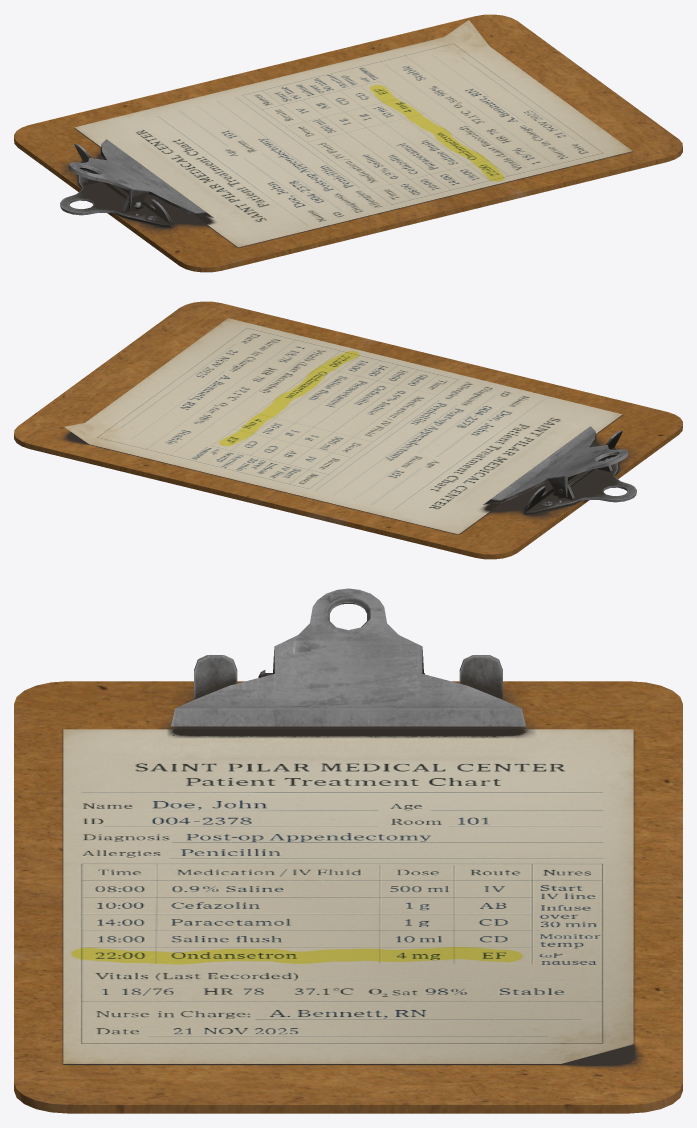
The model's file is MedicalChart.fbx.
3 renders of one model, top to bottom at view 1: azimuth 30°, elevation 25°; view 2: azimuth 150°, elevation 25°; view 3: azimuth 270°, elevation 25°, orthographic. The views are drawn at different scales.
Visible parts, largest first — view 1: Polygon, Object_49.001; view 2: Polygon, Object_49.001; view 3: Polygon, Object_49.001.
Boxes of the visible parts, x1,y1,x2,y2 form: Polygon: [74, 20, 632, 247]; Object_49.001: [14, 14, 682, 272]; Polygon: [64, 318, 622, 534]; Object_49.001: [14, 301, 682, 559]; Polygon: [63, 729, 633, 1063]; Object_49.001: [14, 588, 682, 1113].
Bounding box in the file's own units: 36.41 × 2.95 × 22.67.
Materials: 1 (1 with a texture image).
